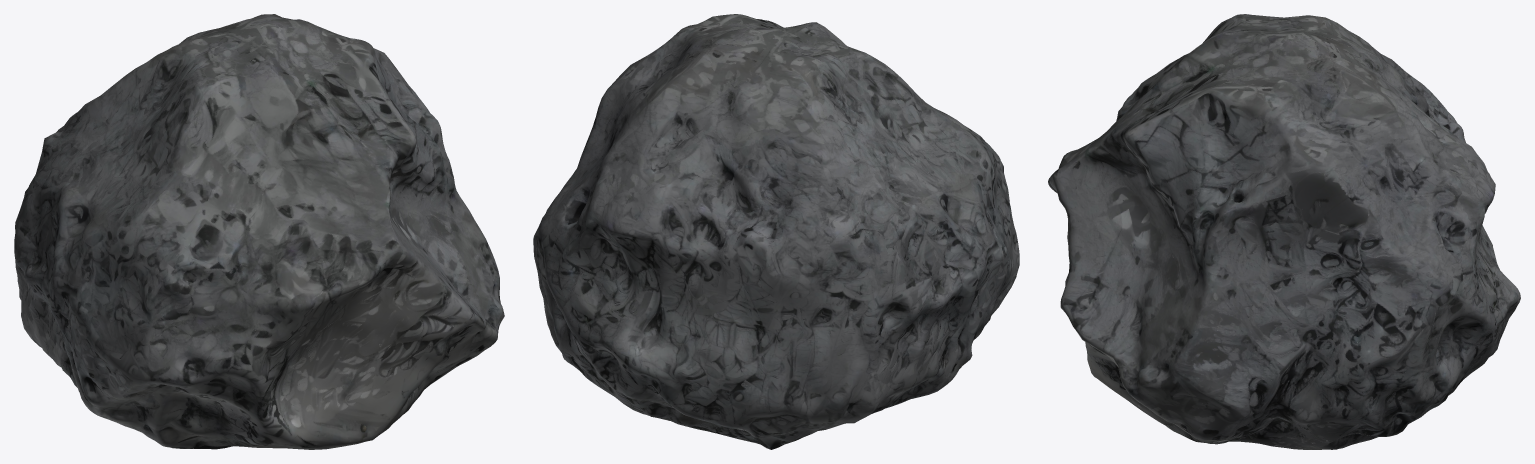
Rendered from coal.glb.
3 views of the same model, side by side, from view 1: azimuth 30°, elevation 25°; view 2: azimuth 150°, elevation 25°; view 3: azimuth 270°, elevation 25° (orthographic). The views are drawn at different scales.
Visible parts, largest first — view 1: tripo_node_508e010d; view 2: tripo_node_508e010d; view 3: tripo_node_508e010d.
Boxes of the visible parts, bbox=[...] form: tripo_node_508e010d: bbox=[14, 14, 504, 449]; tripo_node_508e010d: bbox=[533, 14, 1019, 449]; tripo_node_508e010d: bbox=[1048, 14, 1520, 449].
Size of the model in its own units: 91.61 by 84.09 by 94.98.
Materials: 1 (1 with a texture image).
